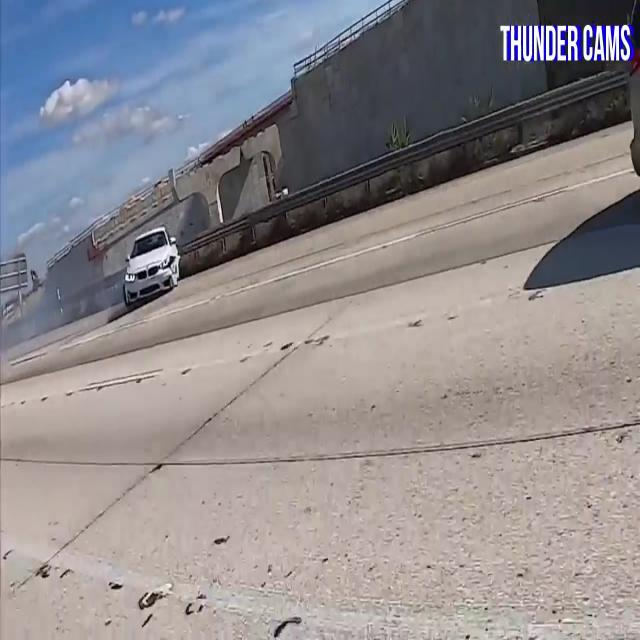accident: (108, 219, 210, 319)
